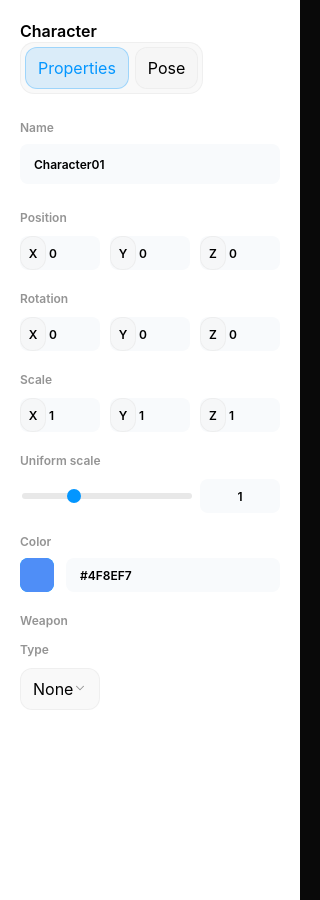
Test: adjusts axis values by dragging the gray XYZ prefix handles
Press the mouse on the button named "Character position X drag to adjust" at {"x": 33, "y": 253}, box [20, 236, 46, 270]
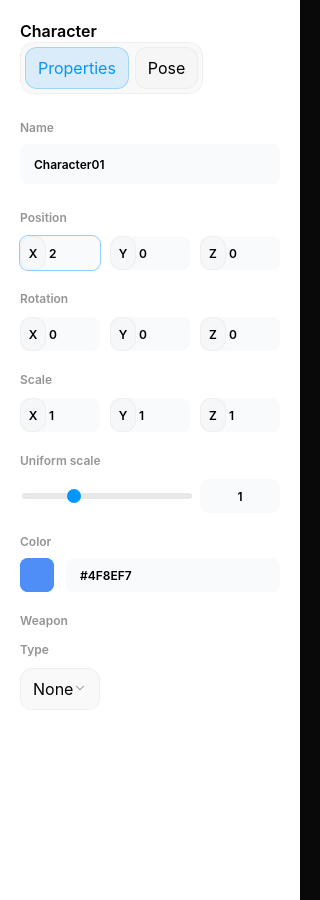
Expected: the number field named "Character position X" holds "2", [43, 236, 100, 270]
